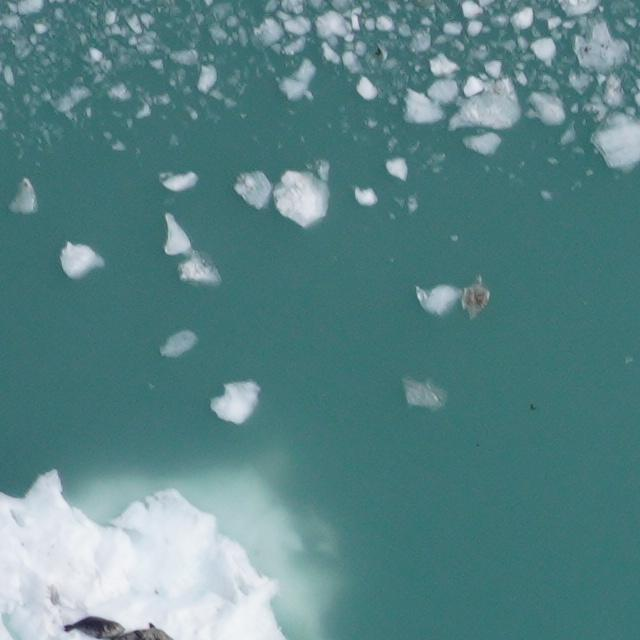seal: (62, 612, 127, 640)
